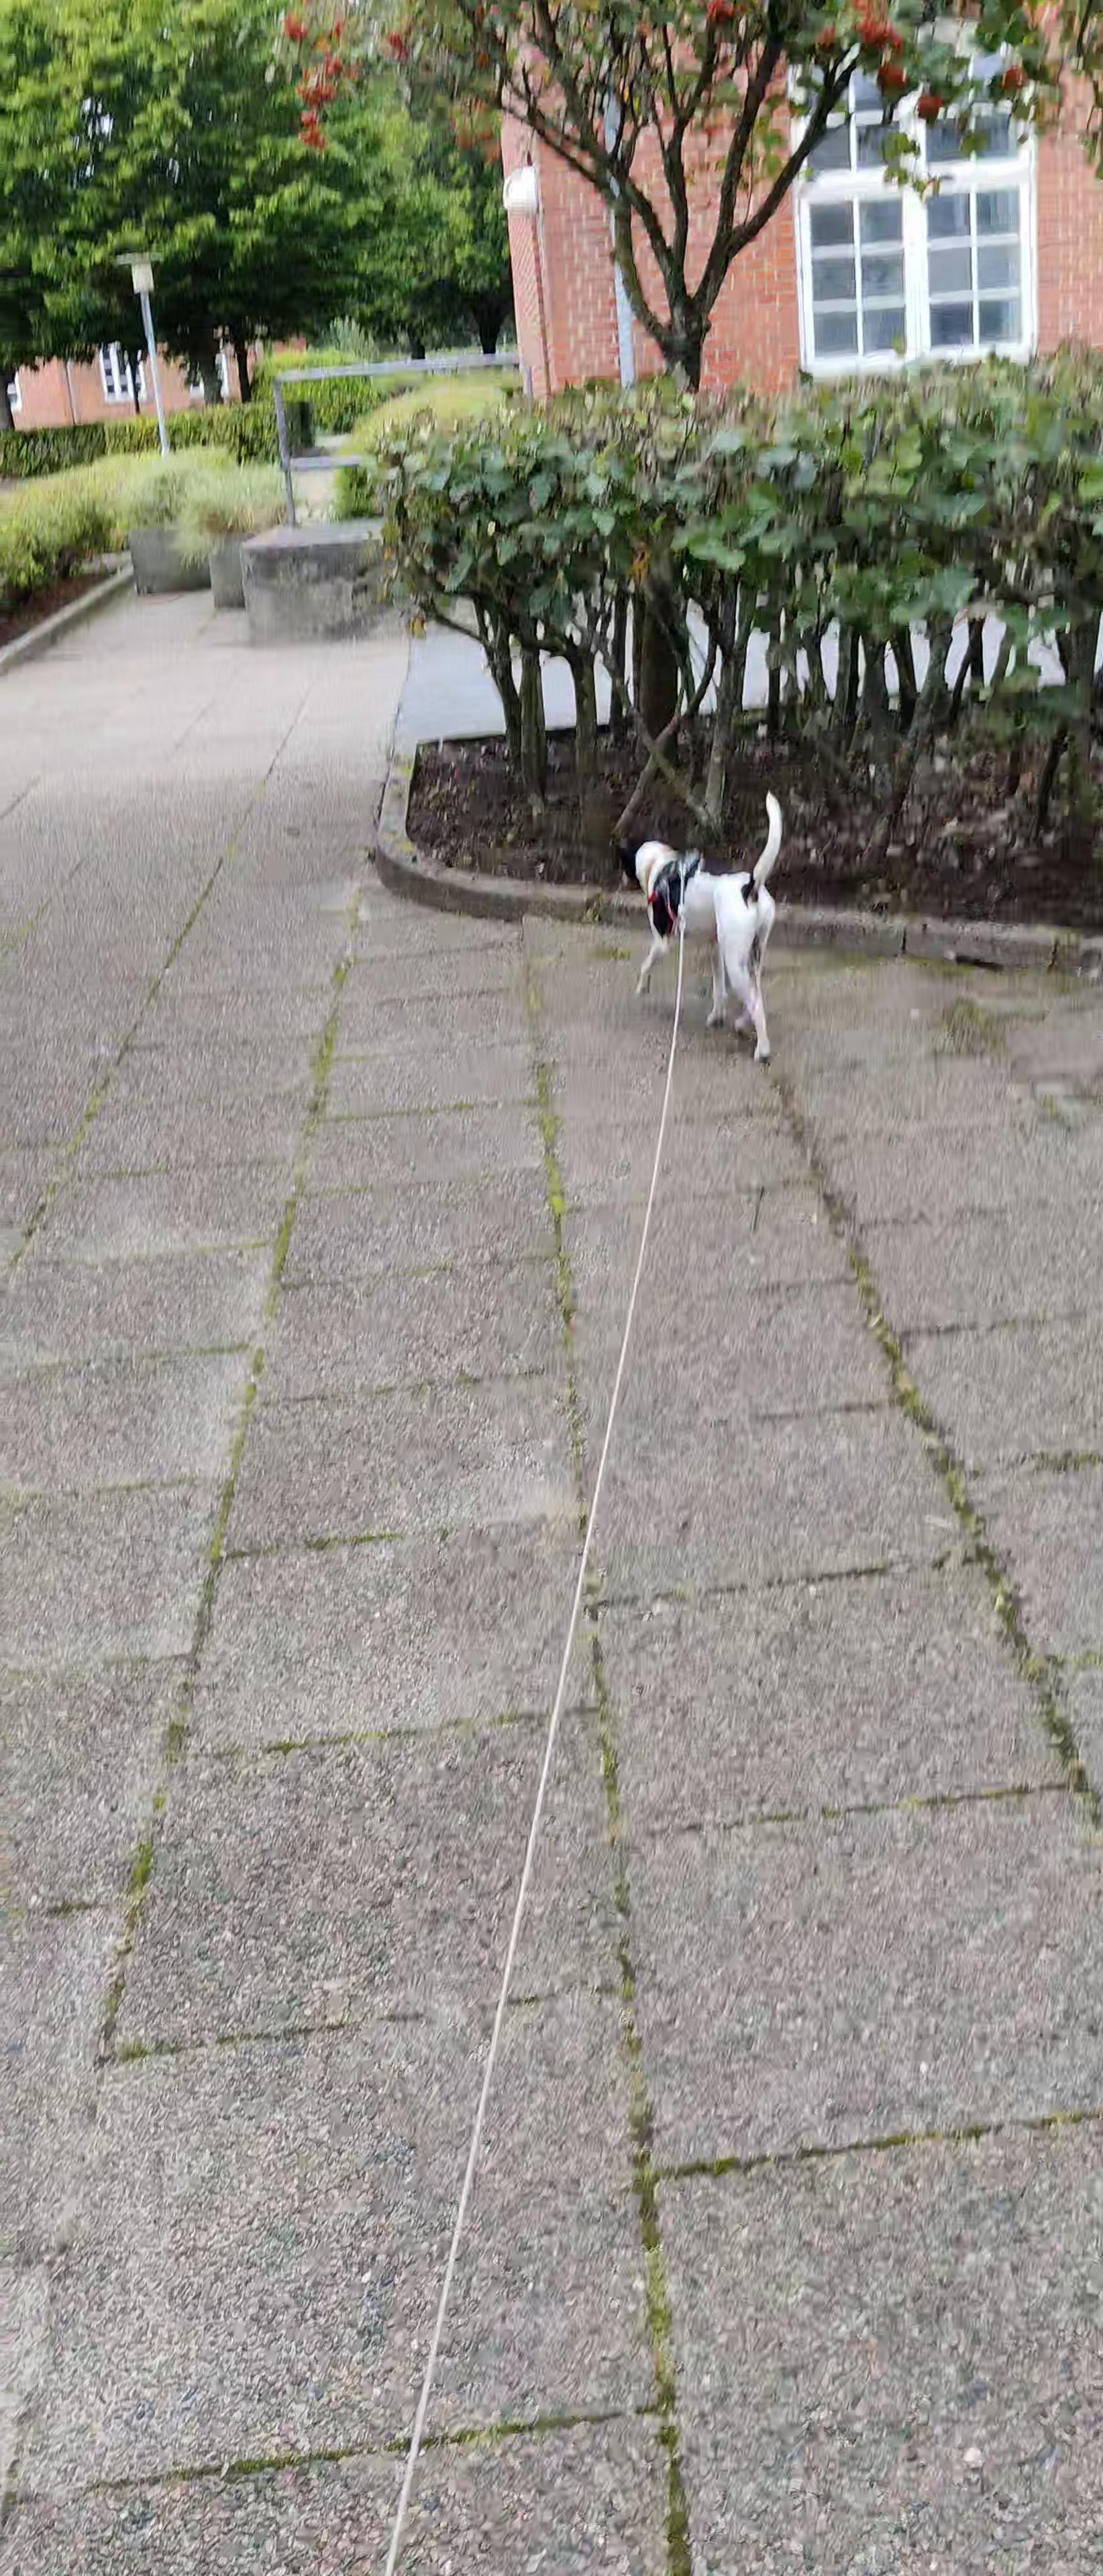Dog: (598, 770, 805, 1074)
